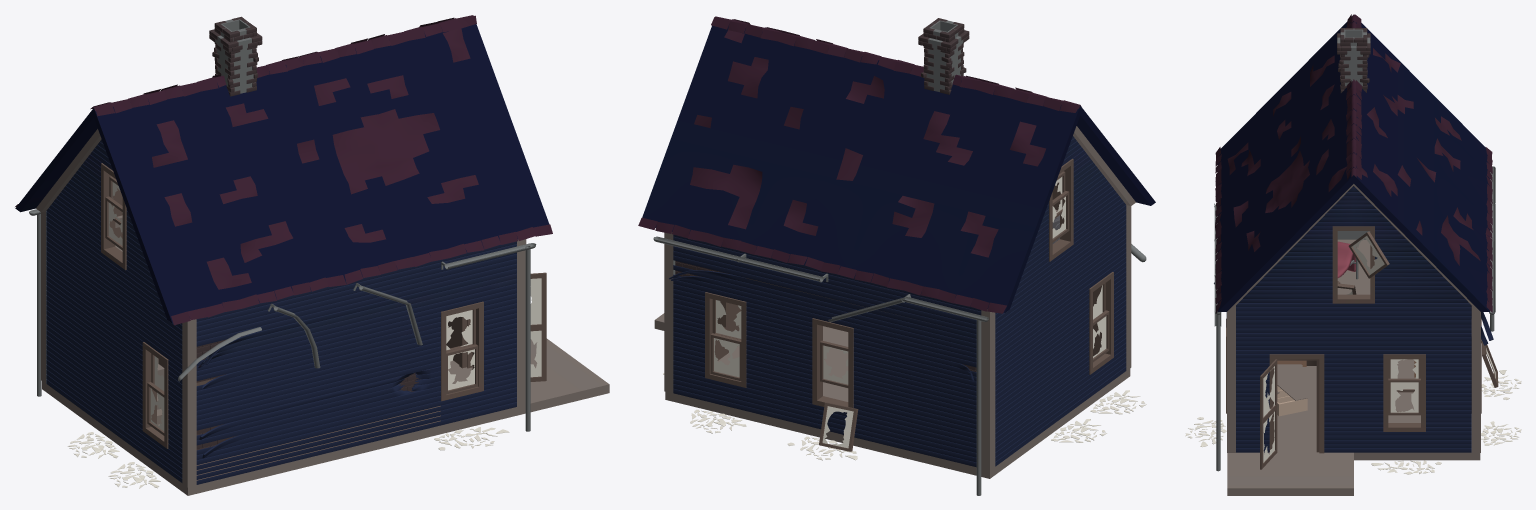
File: House9.fbx
3 views of the same model, side by side, from view 1: azimuth 30°, elevation 25°; view 2: azimuth 150°, elevation 25°; view 3: azimuth 270°, elevation 25° (orthographic). The views are drawn at different scales.
Visible parts, largest first — view 1: HouseMain, Roof, Misc, Drain, ChimneyBricks, Bricks; view 2: HouseMain, Roof, Misc, Drain, ChimneyBricks; view 3: HouseMain, Misc, Roof, Drain, ChimneyBricks, Closet, Bed.
Boxes of the visible parts, box(x1,y1,x2,y2) form: HouseMain: box(15, 19, 609, 495); Roof: box(15, 15, 552, 325); Misc: box(67, 163, 546, 488); Drain: box(29, 209, 536, 431); ChimneyBricks: box(209, 16, 262, 96); Bricks: box(196, 336, 420, 450); HouseMain: box(642, 20, 1155, 478); Roof: box(638, 16, 1081, 313); Misc: box(663, 158, 1146, 460); Drain: box(653, 236, 1146, 495); ChimneyBricks: box(918, 18, 969, 94); HouseMain: box(1214, 21, 1493, 495); Misc: box(1185, 226, 1521, 474); Roof: box(1215, 14, 1492, 313); Drain: box(1214, 166, 1495, 471); ChimneyBricks: box(1337, 28, 1370, 92); Closet: box(1277, 381, 1307, 416); Bed: box(1337, 241, 1358, 283).
Size of the model in its own units: 1103 by 907 by 798.
